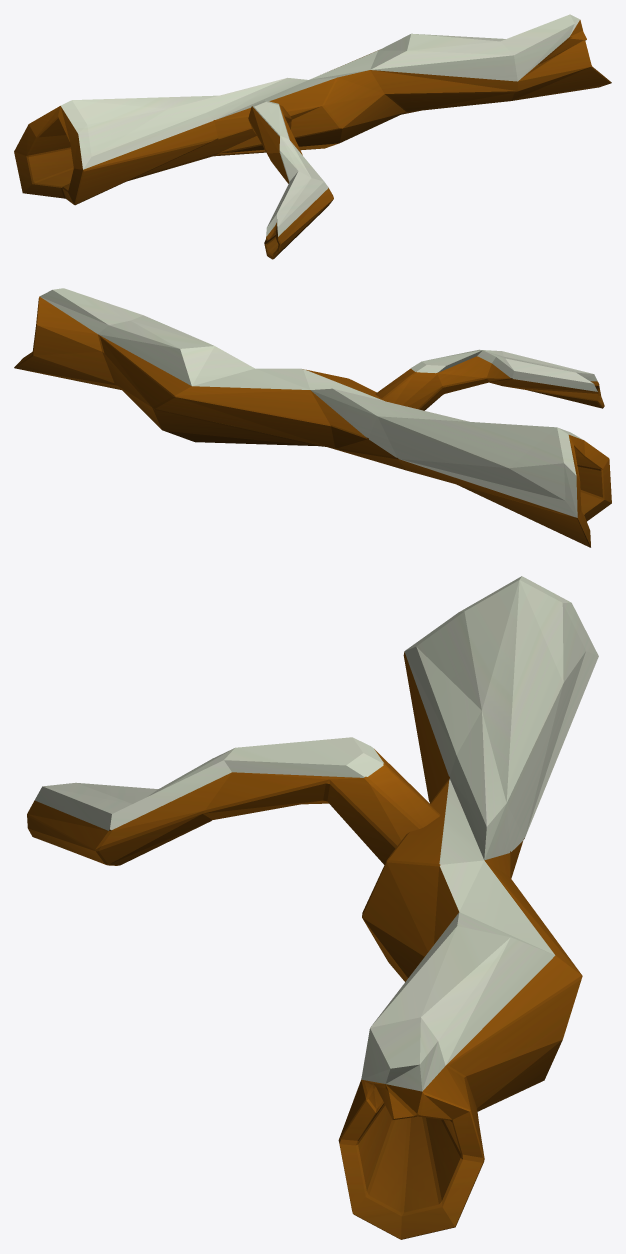
The model's file is log_fork_mossy.glb.
3 views of the same model, one above another, from view 1: azimuth 30°, elevation 25°; view 2: azimuth 150°, elevation 25°; view 3: azimuth 270°, elevation 25° (orthographic). The views are drawn at different scales.
Parts seen in each view (by area): view 1: Wooden Log_2_5_A; view 2: Wooden Log_2_5_A; view 3: Wooden Log_2_5_A.
Part boxes in pixels (x1,y1,x2,y2): Wooden Log_2_5_A: (14,14,611,259); Wooden Log_2_5_A: (14,288,611,547); Wooden Log_2_5_A: (27,576,598,1239).
Bounding box in the file's own units: 2 × 0.33 × 0.92.
Materials: 1 (1 with a texture image).
